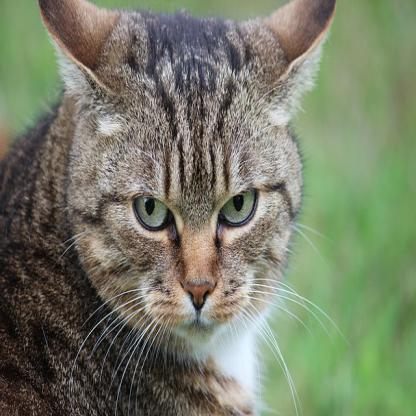cat: (0, 0, 336, 415)
